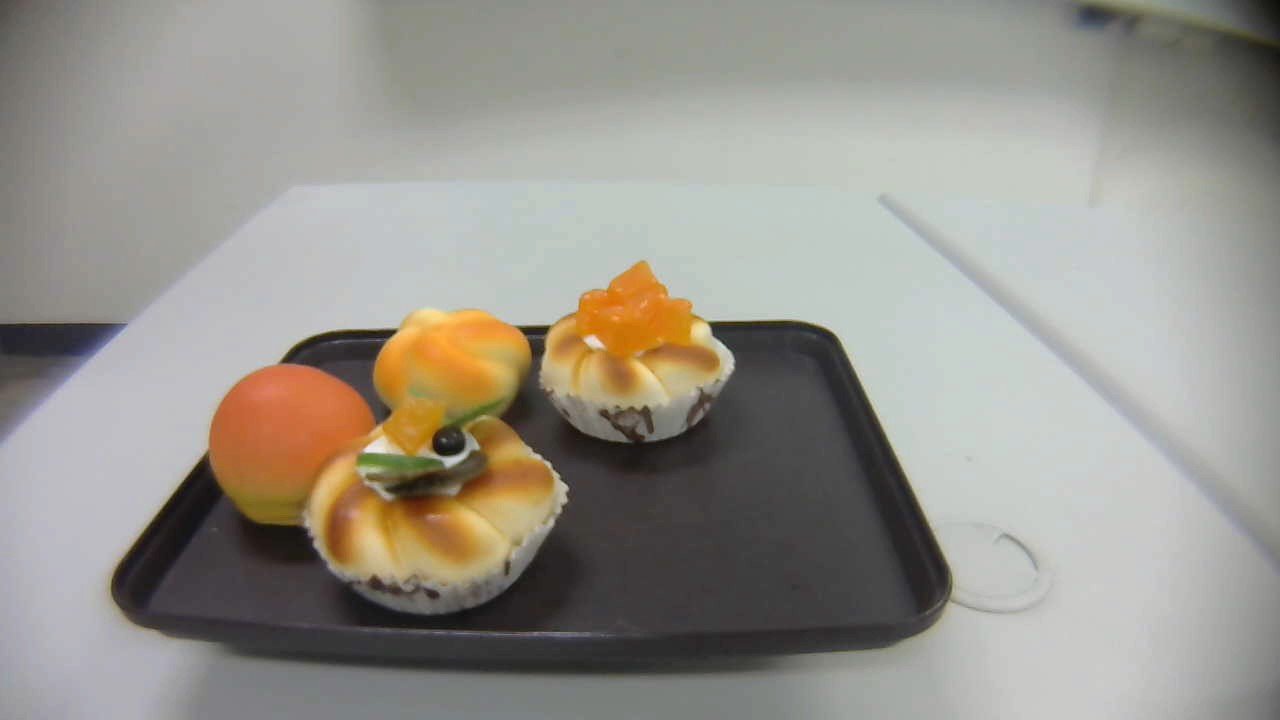bun: (208, 363, 381, 527)
fruit tart: (307, 400, 569, 617)
mango tart: (540, 261, 737, 443)
twist bread: (373, 306, 532, 424)
